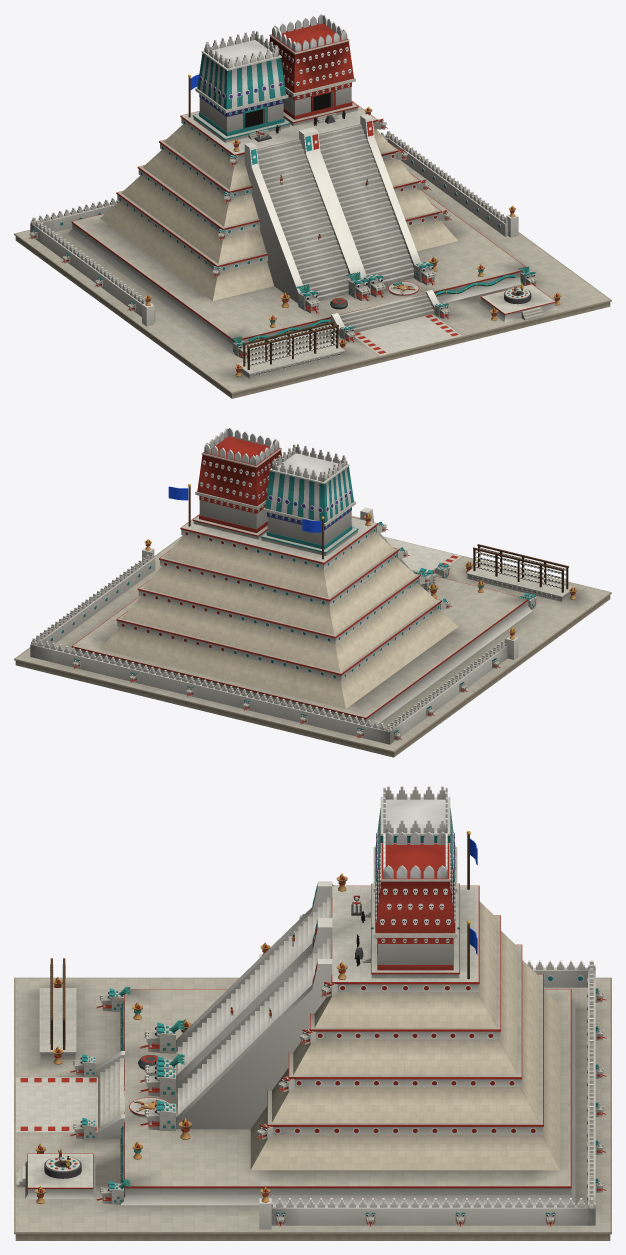
Rendered from lm_templomayor.glb.
The picture shows the model from 3 angles, top to bottom: view 1: azimuth 30°, elevation 25°; view 2: azimuth 150°, elevation 25°; view 3: azimuth 270°, elevation 25°; orthographic projection. The views are drawn at different scales.
Parts seen in each view (by area): view 1: lm_templomayor; view 2: lm_templomayor; view 3: lm_templomayor.
Part boxes in pixels (<box>): lm_templomayor: <box>14,14,611,398</box>; lm_templomayor: <box>14,427,611,757</box>; lm_templomayor: <box>14,786,611,1240</box>.
Bounding box in the file's own units: 2.41 × 1.27 × 2.39.
Materials: 1 (1 with a texture image).
